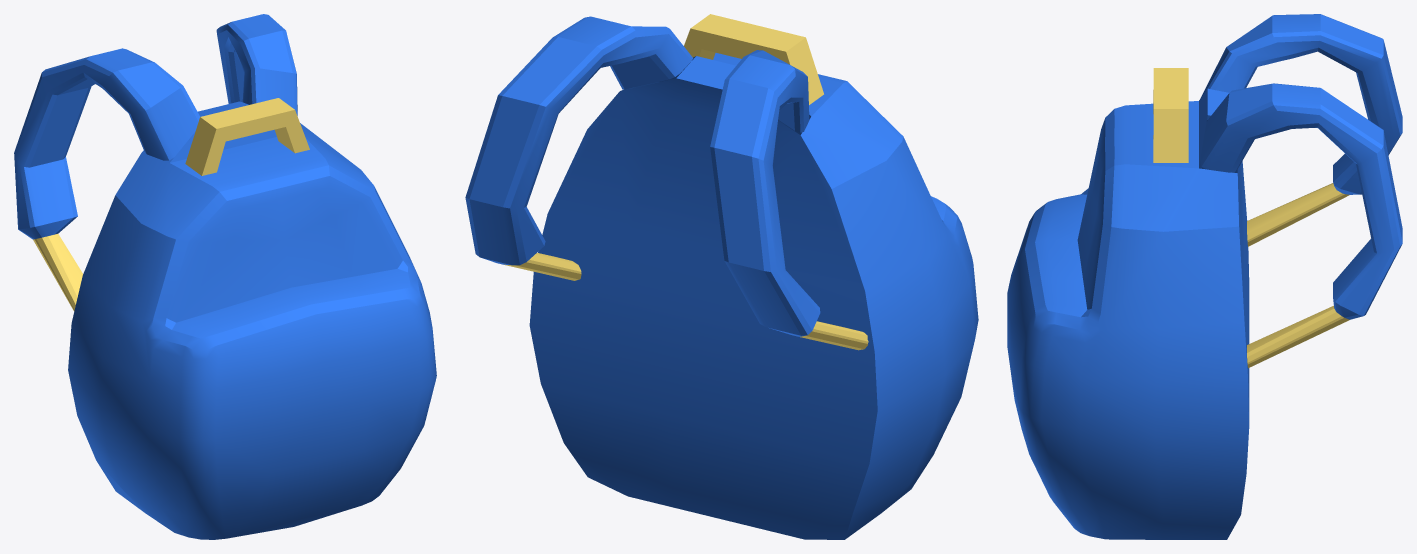
Rendered from Backpack 04.fbx.
The picture shows the model from 3 angles, left to right: view 1: azimuth 30°, elevation 25°; view 2: azimuth 150°, elevation 25°; view 3: azimuth 270°, elevation 25°; orthographic projection. The views are drawn at different scales.
Visible parts, largest first — view 1: Backpack; view 2: Backpack; view 3: Backpack.
Boxes of the visible parts, x1,y1,x2,y2 form: Backpack: (14, 14, 436, 539); Backpack: (465, 14, 978, 539); Backpack: (1007, 14, 1402, 539).
Bounding box in the file's own units: 31.03 × 39.05 × 32.17.
